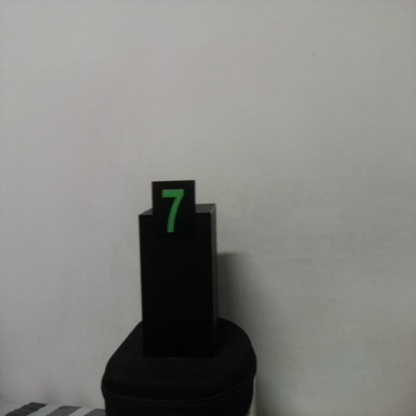id_7: (151, 181, 196, 247)
